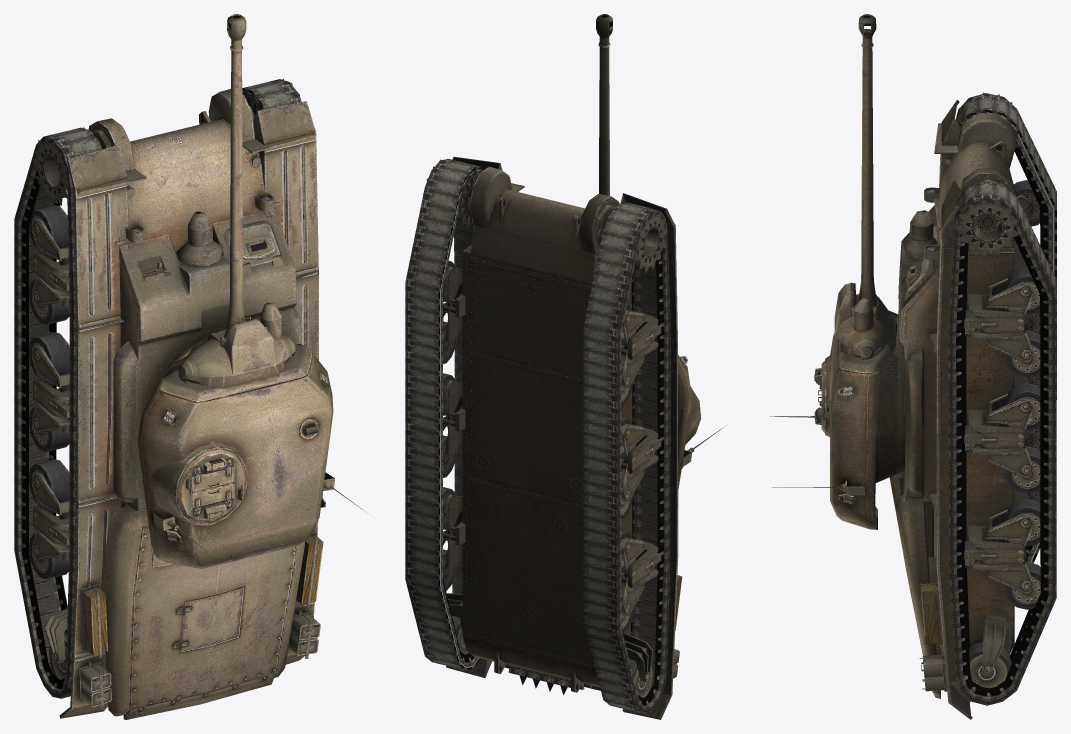
3 renders of one model, left to right at view 1: azimuth 30°, elevation 25°; view 2: azimuth 150°, elevation 25°; view 3: azimuth 270°, elevation 25°, orthographic. The views are drawn at different scales.
Parts seen in each view (by area): view 1: hull, turret_01, chassis_track_L, gun_01, chassis_wheel_L_01, chassis_track_R, chassis_wheel_L_06, chassis_wheel_L_04, chassis_wheel_L_02, chassis_wheel_L_05, chassis_wheel_L_07, chassis_wheel_L_03; view 2: hull, chassis_track_L, chassis_track_R, gun_01, turret_01, chassis_wheel_L_01, chassis_wheel_R_01; view 3: hull, chassis_track_R, turret_01, gun_01, chassis_track_L, chassis_wheel_R_01, chassis_wheel_R_08, chassis_wheel_R_05, chassis_wheel_R_03, chassis_wheel_R_06, chassis_wheel_R_04, chassis_wheel_R_07 (+2 smaller).
Part boxes in pixels (x1,y1,x2,y2): hull: (32, 89, 323, 719); turret_01: (138, 344, 369, 568); chassis_track_L: (14, 127, 101, 698); gun_01: (178, 14, 295, 379); chassis_wheel_L_01: (34, 127, 100, 205); chassis_track_R: (242, 79, 301, 109); chassis_wheel_L_06: (29, 459, 69, 503); chassis_wheel_L_04: (29, 332, 69, 376); chassis_wheel_L_02: (29, 205, 68, 249); chassis_wheel_L_05: (29, 406, 69, 451); chassis_wheel_L_07: (29, 533, 69, 579); chassis_wheel_L_03: (29, 279, 69, 324); hull: (443, 156, 682, 719); chassis_track_L: (583, 202, 670, 713); chassis_track_R: (405, 159, 483, 670); gun_01: (596, 14, 612, 195); turret_01: (678, 355, 726, 489); chassis_wheel_L_01: (605, 203, 667, 273); chassis_wheel_R_01: (423, 159, 482, 229); hull: (889, 100, 1033, 719); chassis_track_R: (948, 181, 1056, 705); turret_01: (769, 310, 904, 529); gun_01: (834, 14, 890, 359); chassis_track_L: (955, 93, 1056, 563); chassis_wheel_R_01: (955, 181, 1019, 257); chassis_wheel_R_08: (969, 642, 1011, 688); chassis_wheel_R_05: (1005, 446, 1040, 493); chassis_wheel_R_03: (1005, 330, 1040, 378); chassis_wheel_R_06: (1005, 498, 1040, 546); chassis_wheel_R_04: (1005, 383, 1040, 430); chassis_wheel_R_07: (1005, 562, 1040, 609).
Size of the model in its own units: 2.77 by 7.85 by 3.26.
Materials: 2 (2 with a texture image).
